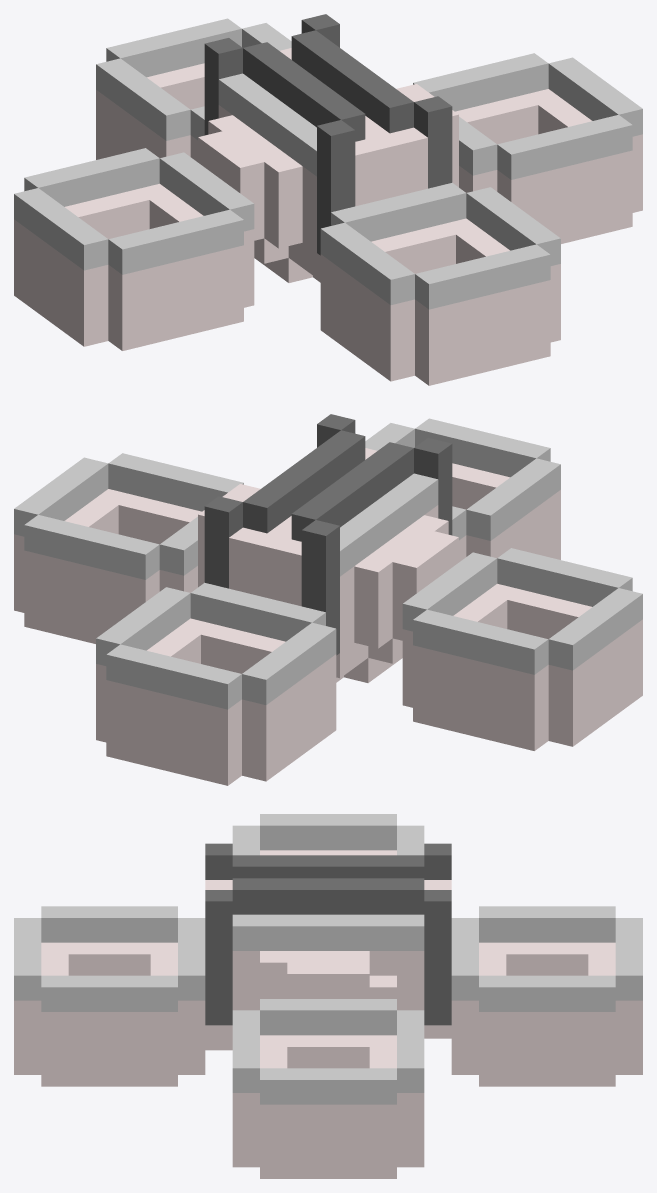
The model's file is _g_drone.obj.
3 views of the same model, one above another, from view 1: azimuth 30°, elevation 25°; view 2: azimuth 150°, elevation 25°; view 3: azimuth 270°, elevation 25° (orthographic). The views are drawn at different scales.
Bounding box in the file's own units: 2.3 × 0.7 × 2.3.
